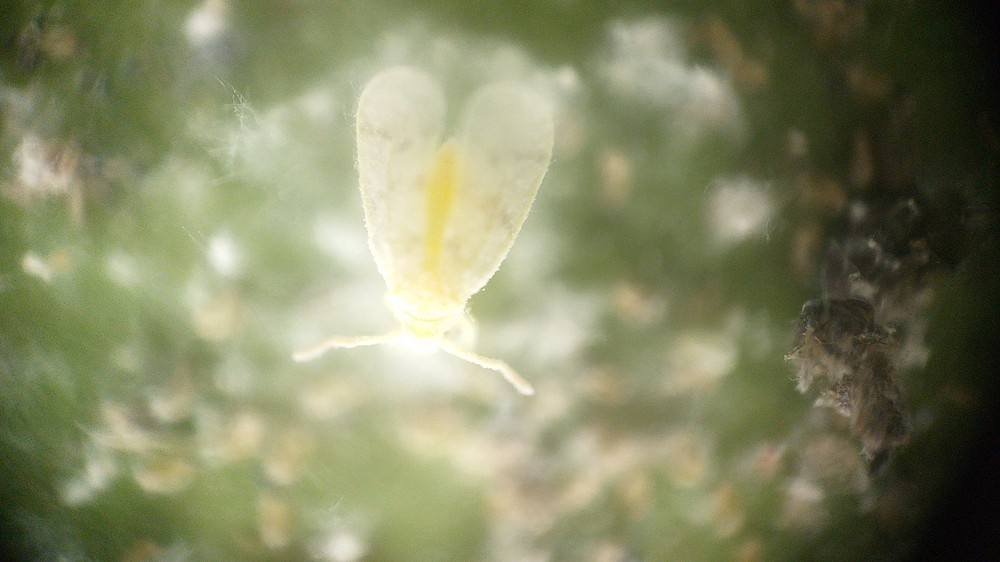Mosca Blanca: (291, 44, 593, 433)
